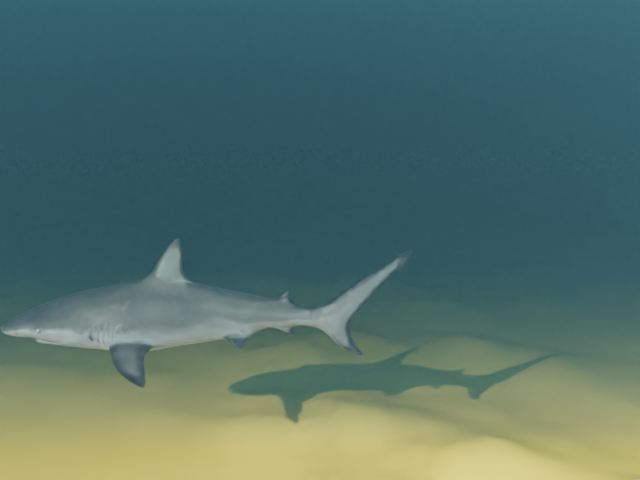Carribean Shark.001: (0, 238, 412, 388)
